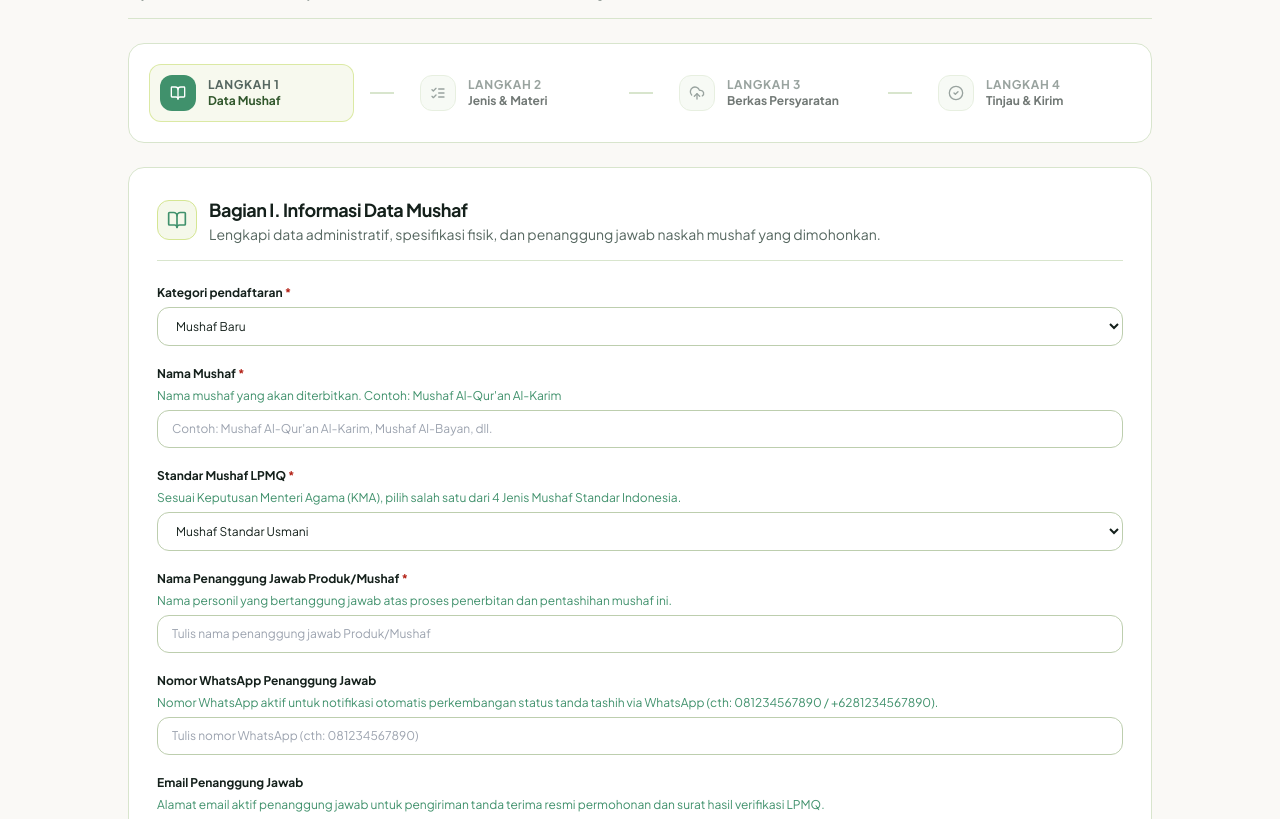
it: Publisher new registration handoff › keeps the form on step 1 and focuses oplah when a filled size has no oplah
Type "Naskah Penerbit" into the field with placeholder "Contoh: Mushaf Al-Qur'an Al-Karim, Mushaf Al-Bayan, dll.".
click(640, 429); type("Naskah Penerbit")  # box [157,410,1123,448]
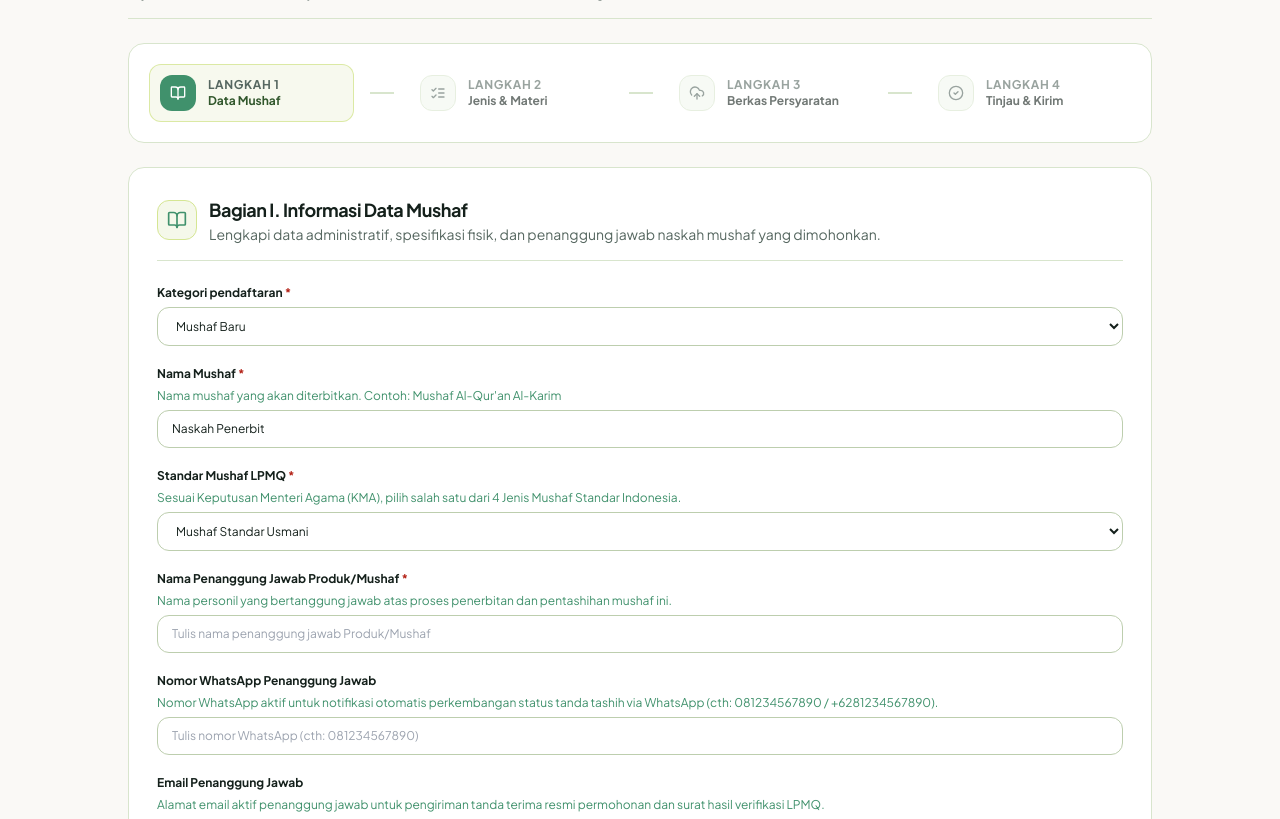
Type "Penanggung Jawab" into the field with placeholder "Tulis nama penanggung jawab Produk/Mushaf".
click(640, 634); type("Penanggung Jawab")  # box [157,615,1123,653]
(page scrolled)
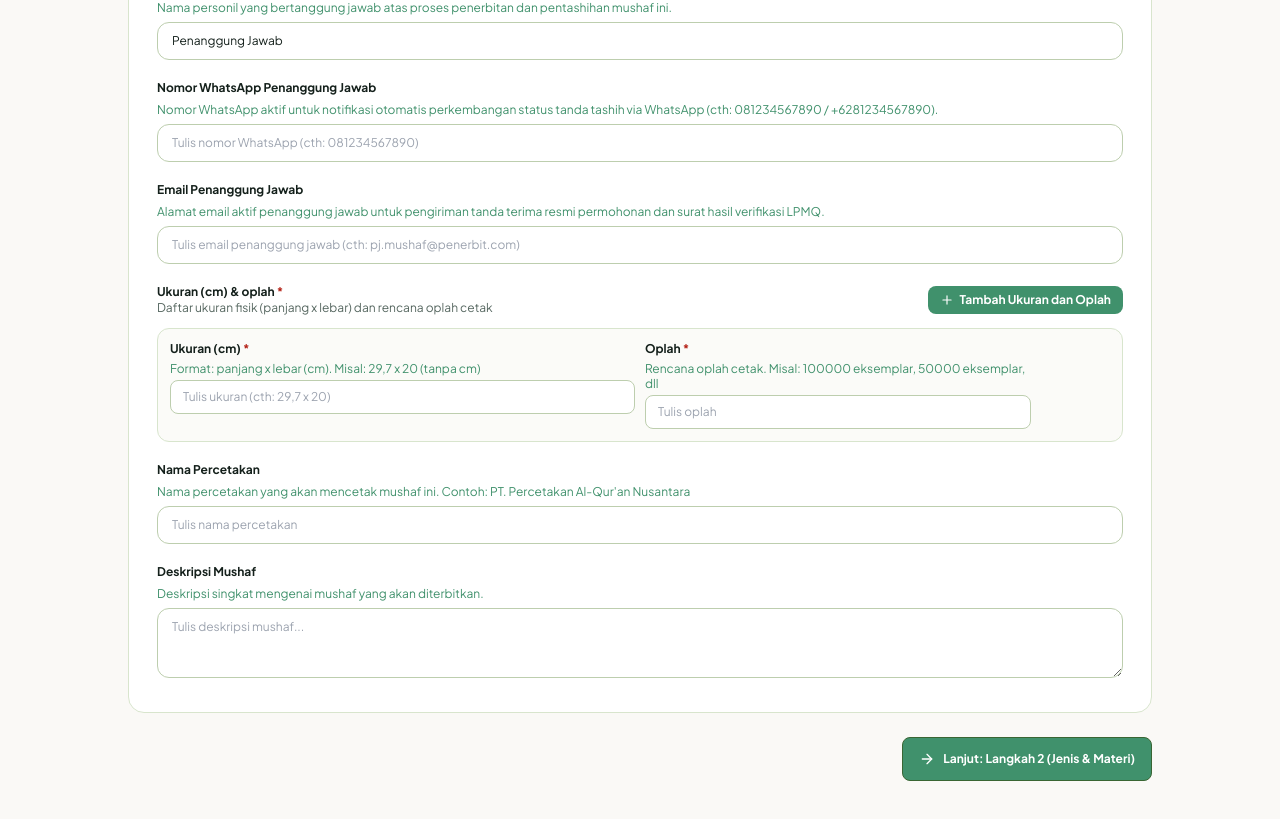
Type "29 x 20" into the field with placeholder "Tulis ukuran (cth: 29,7 x 20)".
click(402, 397); type("29 x 20")  # box [170,380,635,414]
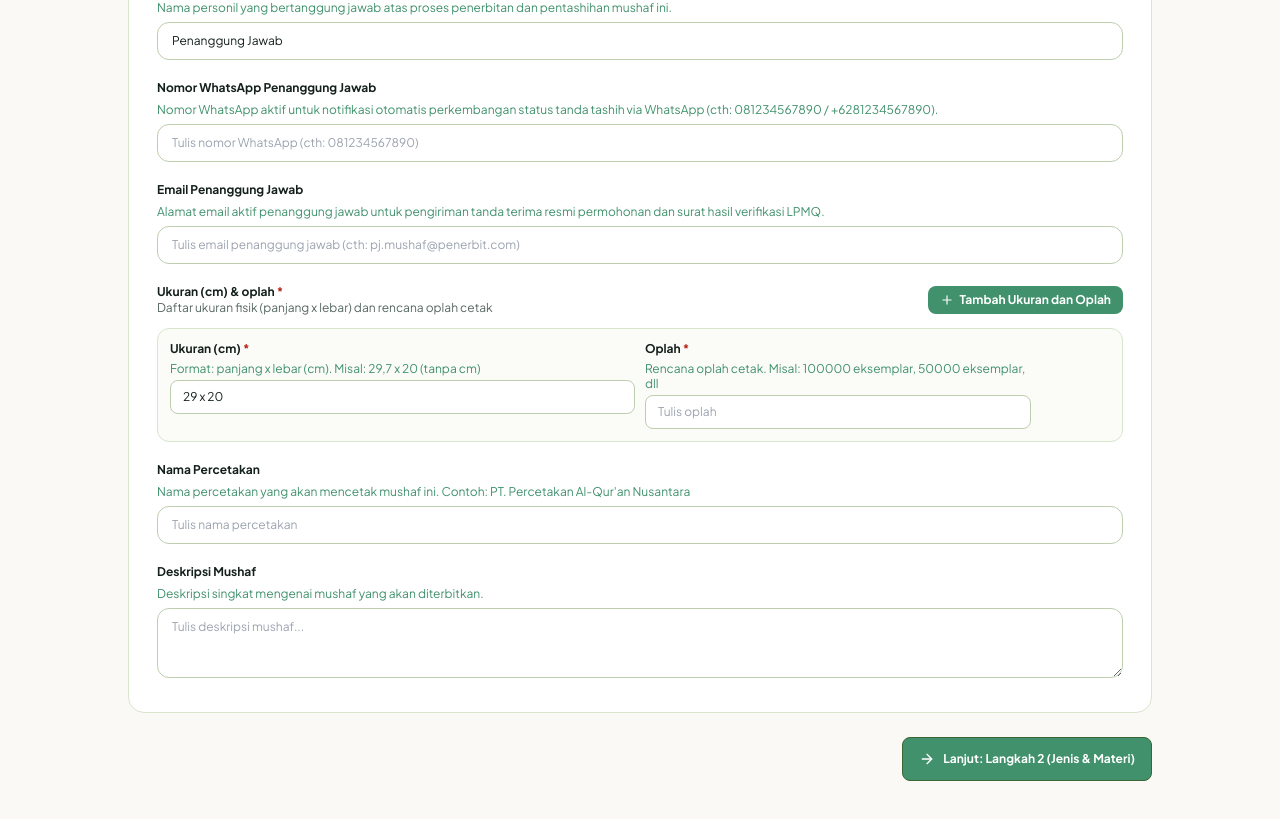
Click the button "Lanjut: Langkah 2 (Jenis & Materi)".
click(1027, 758)  # box [902,736,1152,780]
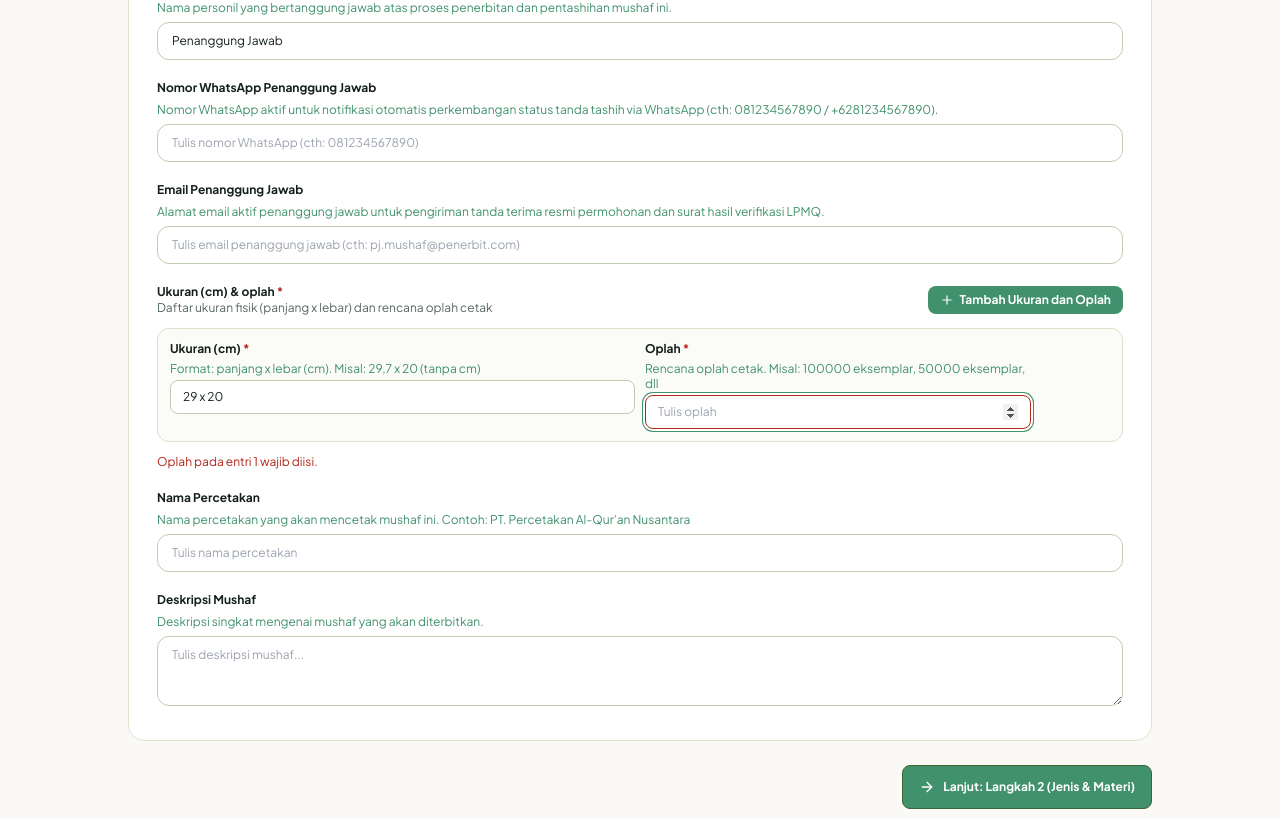
Expected: the text "Oplah pada entri 1 wajib diisi." is shown, [157,454,318,469]
